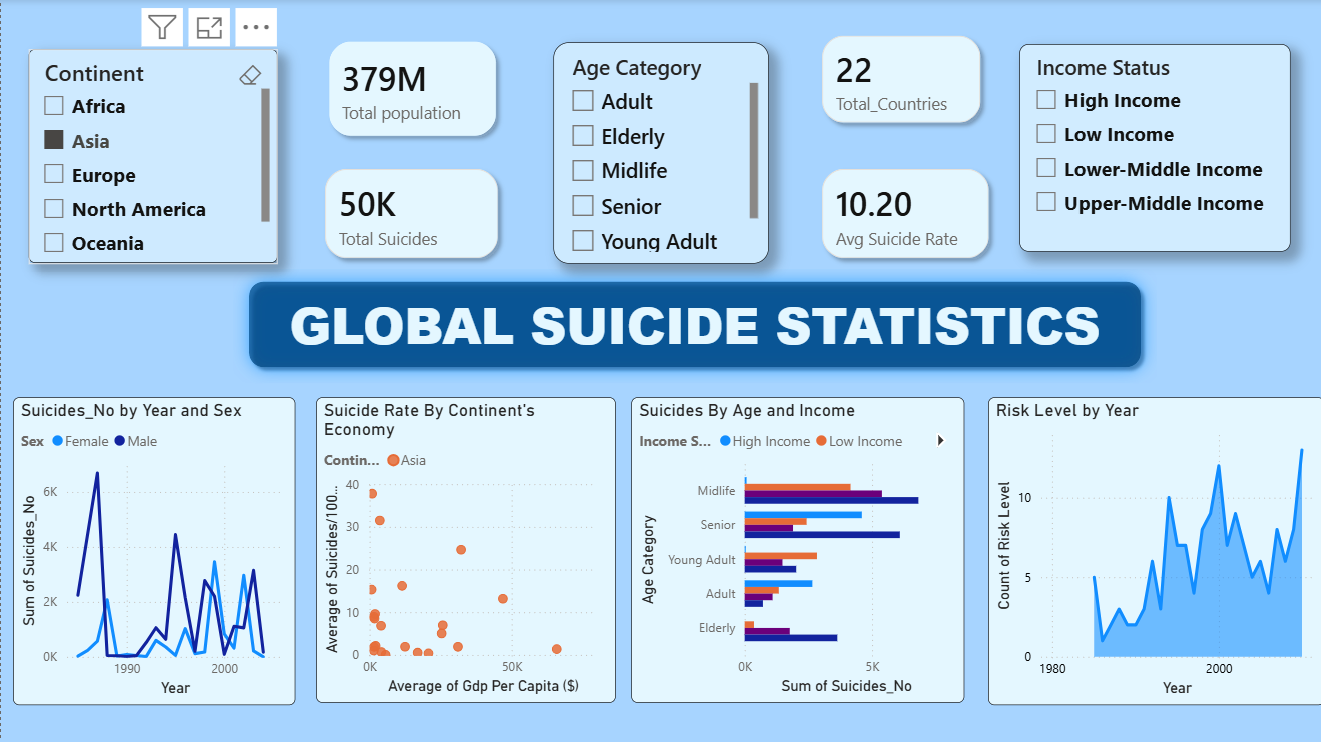

The dashboard page shown, as its layout file describes it:
{"tool":"powerbi","page":{"name":"Page 2","canvas":[1280,720],"ordinal":1},"visuals":[{"type":"slicer","fields":{"Values":["Suicide_Statistics.Age Category"]},"box":[534.8,41.7,208.6,214.3],"z":0},{"type":"slicer","fields":{"Values":["Suicide_Statistics.Income Status"]},"box":[986.1,43.6,261.7,201],"z":1000},{"type":"cardVisual","fields":{"Data":["Suicide_Statistics.Total population"]},"box":[284.5,7.6,227.6,157.4],"z":2000},{"type":"cardVisual","fields":{"Data":["Suicide_Statistics.Total_Countries"]},"box":[766,6.7,211.2,142.5],"z":3000},{"type":"cardVisual","fields":{"Data":["Sum(Suicide_Statistics.Suicides_No)"]},"box":[284.5,136.5,225.7,144.1],"z":4000},{"type":"cardVisual","fields":{"Data":["Suicide_Statistics.Avg Suicide Rate"]},"box":[766.2,136.5,220,144.1],"z":5000},{"type":"lineChart","title":"Suicides_No by Year and Sex","fields":{"Category":["Suicide_Statistics.Year"],"Series":["Suicide_Statistics.Sex"],"Y":["Sum(Suicide_Statistics.Suicides_No)"]},"box":[11.4,385,273.1,297.7],"z":6000},{"type":"scatterChart","title":"Suicide Rate By Continent''s Economy","fields":{"X":["Avg(Suicide_Statistics.Gdp Per Capita ($))"],"Y":["Avg(Suicide_Statistics.Suicides/100k pop)"],"Category":["Suicide_Statistics.Country"],"Series":["Continent_Statistics.Continent"]},"box":[305.3,385,290.2,295.8],"z":7000},{"type":"clusteredBarChart","title":"Suicides By Age and Income","fields":{"Category":["Suicide_Statistics.Age Category"],"Y":["Sum(Suicide_Statistics.Suicides_No)"],"Series":["Suicide_Statistics.Income Status"]},"box":[610.6,385,322.4,295.8],"z":8000},{"type":"shape","box":[223.8,257.9,893.2,113.8],"z":9000},{"type":"slicer","fields":{"Values":["Suicide_Statistics.Continent"]},"box":[26.5,49.3,240.8,206.7],"z":10000},{"type":"stackedAreaChart","title":"Risk Level by Year","fields":{"Category":["Suicide_Statistics.Year"],"Y":["CountNonNull(Suicide_Statistics.Risk Level)"]},"box":[955.8,385,324.3,297.7],"z":11000}]}

Visuals, with their boxes in screenshot pixels (x1, y1, x2, y2), scaled from the page's 1280x720 canvas onto the 1321x742 screenshot:
slicer - Suicide_Statistics.Age Category: {"left": 552, "top": 43, "right": 767, "bottom": 264}
slicer - Suicide_Statistics.Income Status: {"left": 1018, "top": 45, "right": 1288, "bottom": 252}
cardVisual - Suicide_Statistics.Total population: {"left": 294, "top": 8, "right": 529, "bottom": 170}
cardVisual - Suicide_Statistics.Total_Countries: {"left": 791, "top": 7, "right": 1009, "bottom": 154}
cardVisual - Sum(Suicide_Statistics.Suicides_No): {"left": 294, "top": 141, "right": 527, "bottom": 289}
cardVisual - Suicide_Statistics.Avg Suicide Rate: {"left": 791, "top": 141, "right": 1018, "bottom": 289}
"Suicides_No by Year and Sex" lineChart: {"left": 12, "top": 397, "right": 294, "bottom": 704}
"Suicide Rate By Continent''s Economy" scatterChart: {"left": 315, "top": 397, "right": 615, "bottom": 702}
"Suicides By Age and Income" clusteredBarChart: {"left": 630, "top": 397, "right": 963, "bottom": 702}
shape: {"left": 231, "top": 266, "right": 1153, "bottom": 383}
slicer - Suicide_Statistics.Continent: {"left": 27, "top": 51, "right": 276, "bottom": 264}
"Risk Level by Year" stackedAreaChart: {"left": 986, "top": 397, "right": 1320, "bottom": 704}
